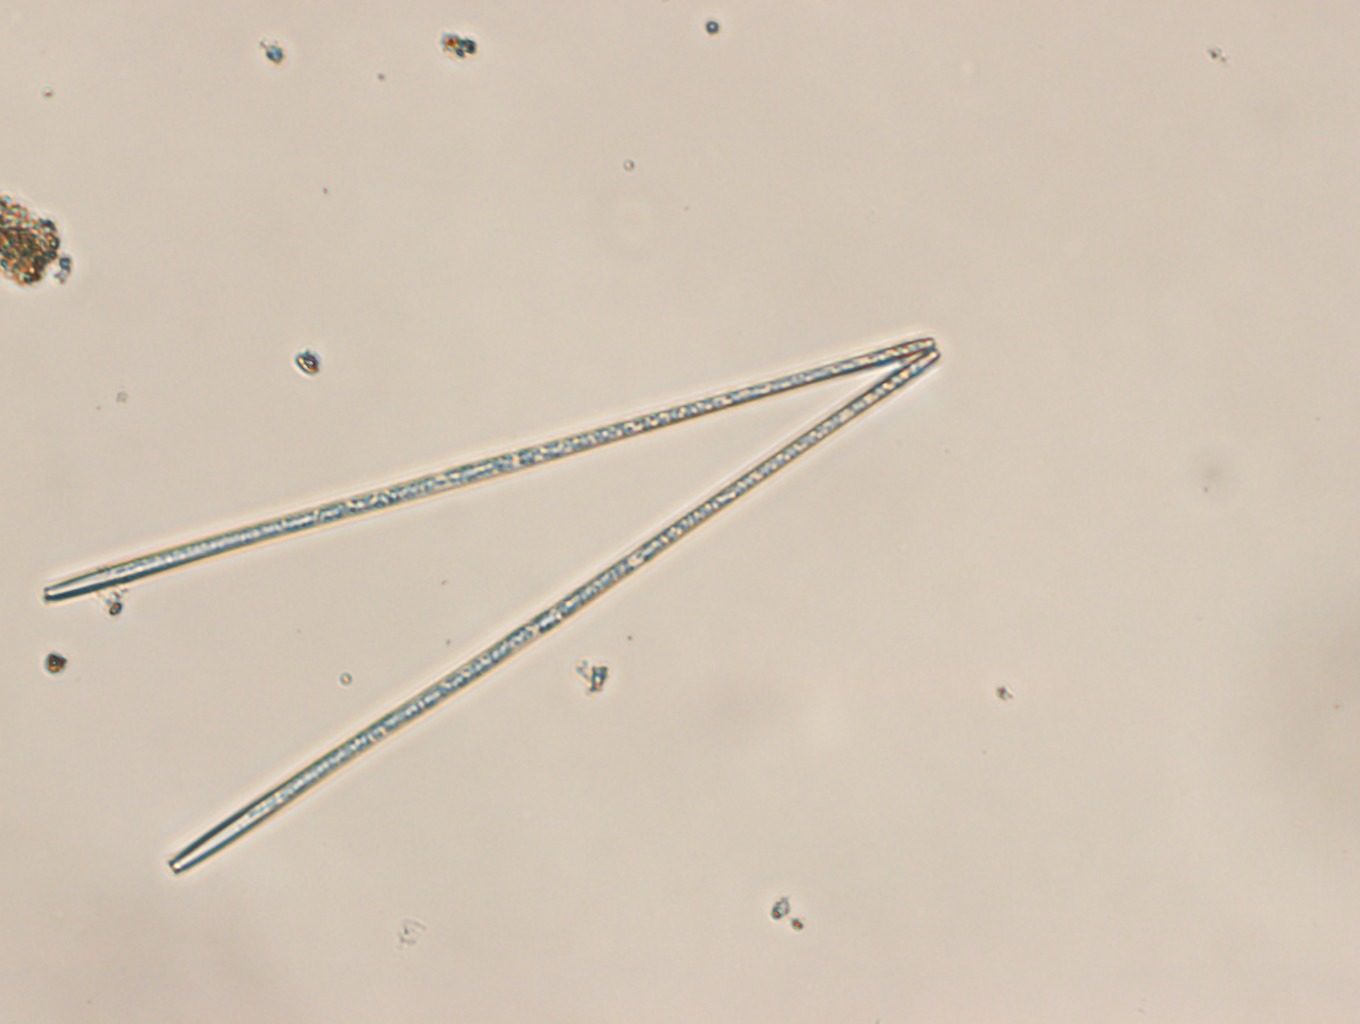thalassionema frauenfeldii: (42, 333, 942, 874)
